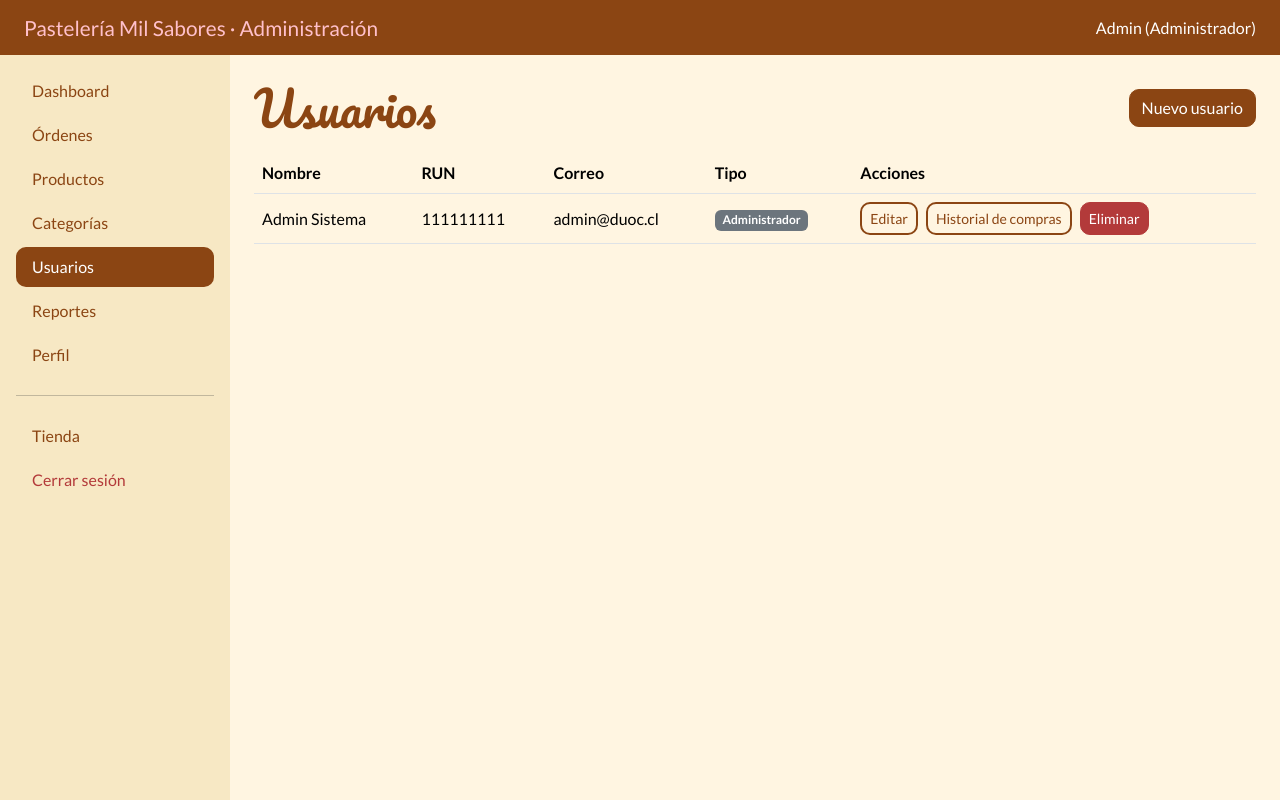
Test: Admin: usuarios › no permite eliminar la propia cuenta
Step 1. Click the button "Eliminar" → (1114, 218), box [1080,202,1149,235]
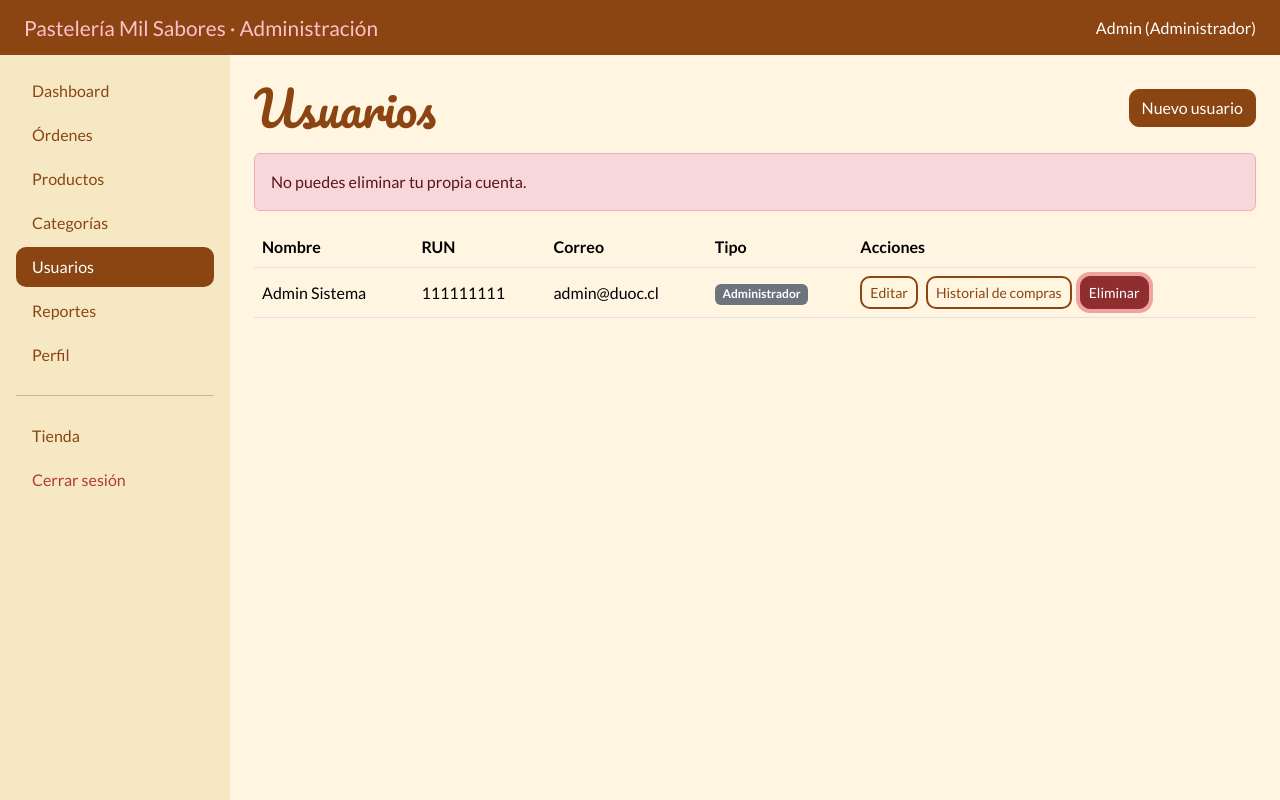
Now the message reads "No puedes eliminar tu propia cuenta.", box [271,172,526,191]
